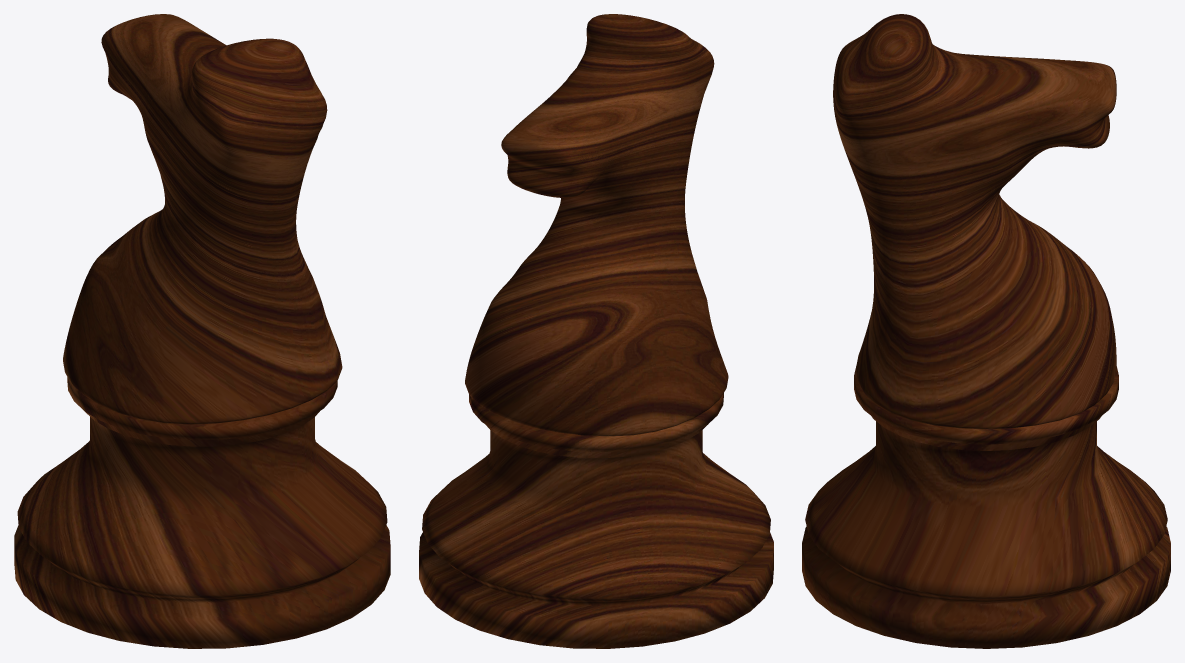
File: knight.obj
The picture shows the model from 3 angles, left to right: view 1: azimuth 30°, elevation 25°; view 2: azimuth 150°, elevation 25°; view 3: azimuth 270°, elevation 25°; orthographic projection. The views are drawn at different scales.
Visible parts, largest first — view 1: knight.003_Cube.001; view 2: knight.003_Cube.001; view 3: knight.003_Cube.001.
Part boxes in pixels (x1,y1,x2,y2): knight.003_Cube.001: (14, 14, 390, 648); knight.003_Cube.001: (419, 14, 773, 648); knight.003_Cube.001: (802, 14, 1170, 648).
Bounding box in the file's own units: 1.4 × 2.27 × 1.4.
